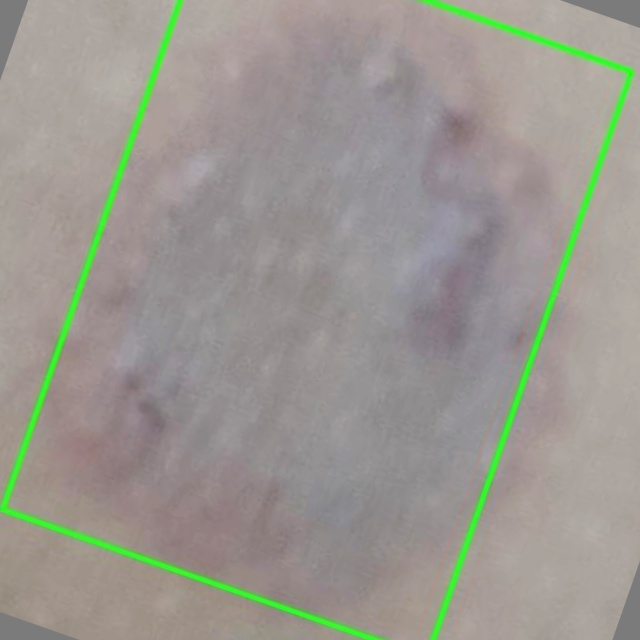Eczema: (2, 0, 631, 639)
